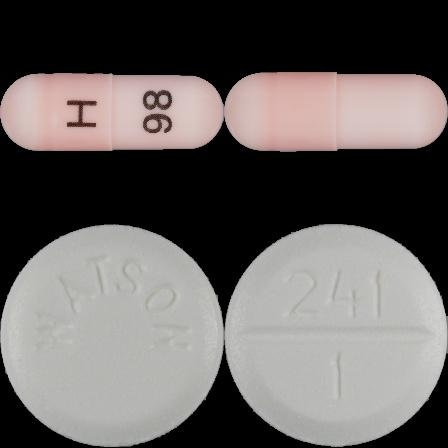54868-1335: (0, 0, 224, 224)
